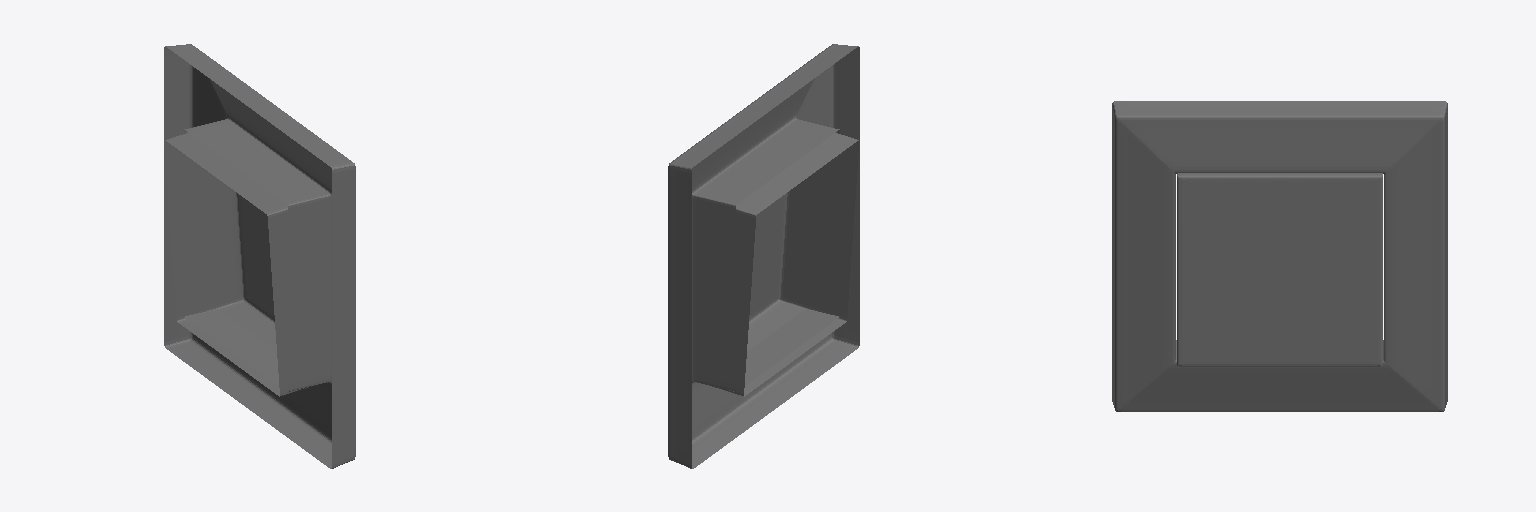
File: switch1.obj
The picture shows the model from 3 angles: view 1: azimuth 30°, elevation 25°; view 2: azimuth 150°, elevation 25°; view 3: azimuth 270°, elevation 25°; orthographic projection.
Parts seen in each view (by area): view 1: switch_Cube.006; view 2: switch_Cube.006; view 3: switch_Cube.006.
Boxes of the visible parts, box(x1,y1,x2,y2) form: switch_Cube.006: box(164, 44, 355, 468); switch_Cube.006: box(668, 44, 859, 468); switch_Cube.006: box(1112, 101, 1447, 411).
Size of the model in its own units: 0.1147 by 0.413 by 0.4161.